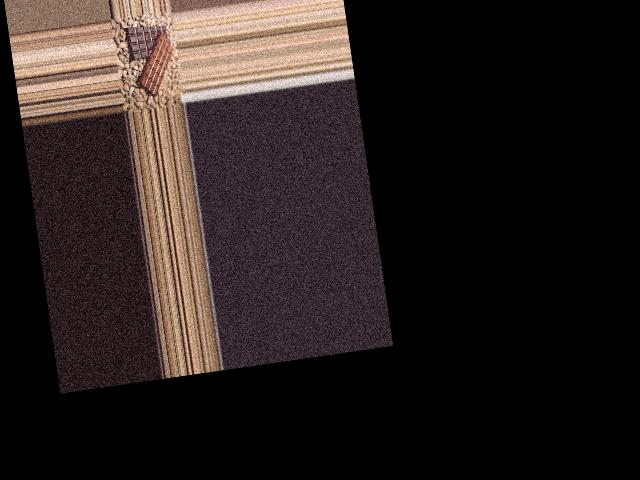chocolate: (122, 17, 172, 61)
